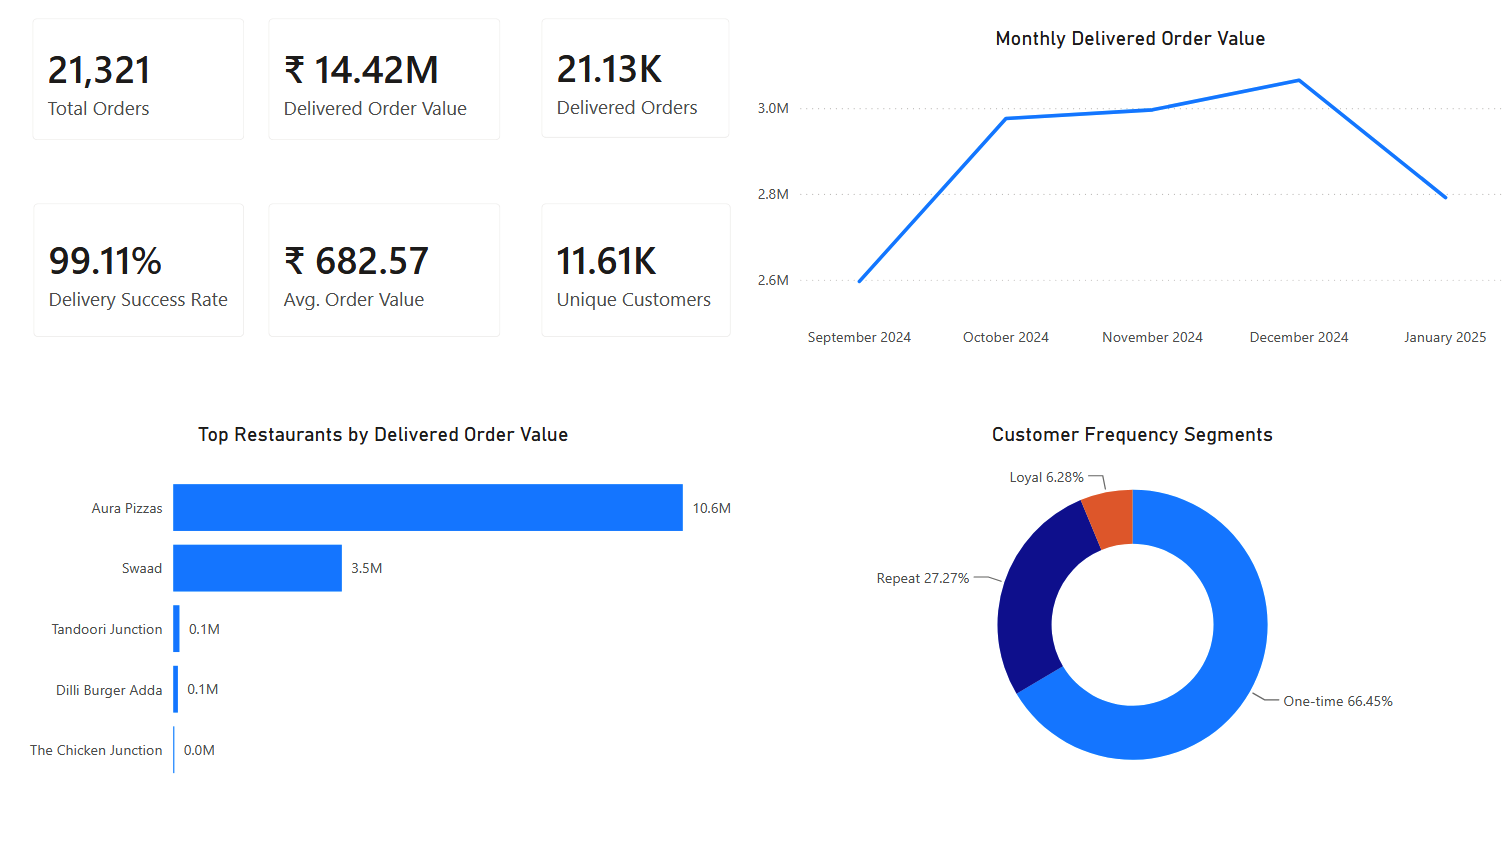

The page's visual inventory and layout, read from the dashboard file:
{"tool":"powerbi","page":{"name":"Executive Dashboard","canvas":[1280,720],"ordinal":0},"visuals":[{"type":"cardVisual","fields":{"Data":["Sum(public vw_executive_kpis.total_orders)"]},"box":[15,2.5,213.1,137.5],"z":0},{"type":"cardVisual","fields":{"Data":["Sum(public vw_executive_kpis.delivered_order_value)"]},"box":[214.4,2.5,230,137.5],"z":1000},{"type":"cardVisual","fields":{"Data":["Sum(public vw_executive_kpis.delivered_orders)"]},"box":[444.4,2.5,193.8,135],"z":2000},{"type":"cardVisual","fields":{"Data":["public vw_executive_kpis.Delivery Success Rate Card"]},"box":[15.7,158.6,212.9,147.1],"z":3000},{"type":"cardVisual","fields":{"Data":["Sum(public vw_executive_kpis.average_delivered_order_value)"]},"box":[214.3,158.6,230,147.1],"z":4000},{"type":"cardVisual","fields":{"Data":["Sum(public vw_executive_kpis.unique_customers)"]},"box":[444.3,158.6,194.3,147.1],"z":5000},{"type":"lineChart","title":"Monthly Delivered Order Value","fields":{"Category":["public vw_monthly_performance.order_month"],"Y":["Sum(public vw_monthly_performance.delivered_order_value)"]},"box":[638.6,25.7,640,280],"z":6000},{"type":"clusteredBarChart","title":"Top Restaurants by Delivered Order Value","fields":{"Category":["public vw_restaurant_performance.restaurant_name"],"Y":["Sum(public vw_restaurant_performance.delivered_order_value)"]},"box":[15.7,360,624.3,322.9],"z":7000},{"type":"donutChart","title":"Customer Frequency Segments","fields":{"Category":["public vw_customer_segments.frequency_segment"],"Y":["CountNonNull(public vw_customer_segments.customer_id)"]},"box":[640,360,640,322.9],"z":8000}]}

Visuals, with their boxes in screenshot pixels (x1, y1, x2, y2), scaled from the page's 1280x720 canvas onto the 1511x846 screenshot:
cardVisual - Sum(public vw_executive_kpis.total_orders): crop(18, 3, 269, 164)
cardVisual - Sum(public vw_executive_kpis.delivered_order_value): crop(253, 3, 525, 164)
cardVisual - Sum(public vw_executive_kpis.delivered_orders): crop(525, 3, 753, 162)
cardVisual - public vw_executive_kpis.Delivery Success Rate Card: crop(19, 186, 270, 359)
cardVisual - Sum(public vw_executive_kpis.average_delivered_order_value): crop(253, 186, 524, 359)
cardVisual - Sum(public vw_executive_kpis.unique_customers): crop(524, 186, 754, 359)
"Monthly Delivered Order Value" lineChart: crop(754, 30, 1509, 359)
"Top Restaurants by Delivered Order Value" clusteredBarChart: crop(19, 423, 756, 802)
"Customer Frequency Segments" donutChart: crop(756, 423, 1510, 802)
